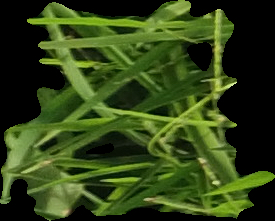grass: (1, 1, 274, 220)
